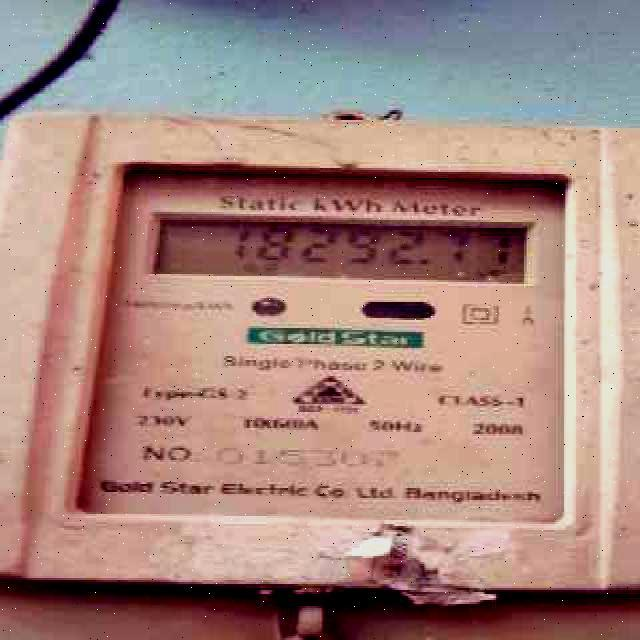LCD: (135, 204, 540, 295)
